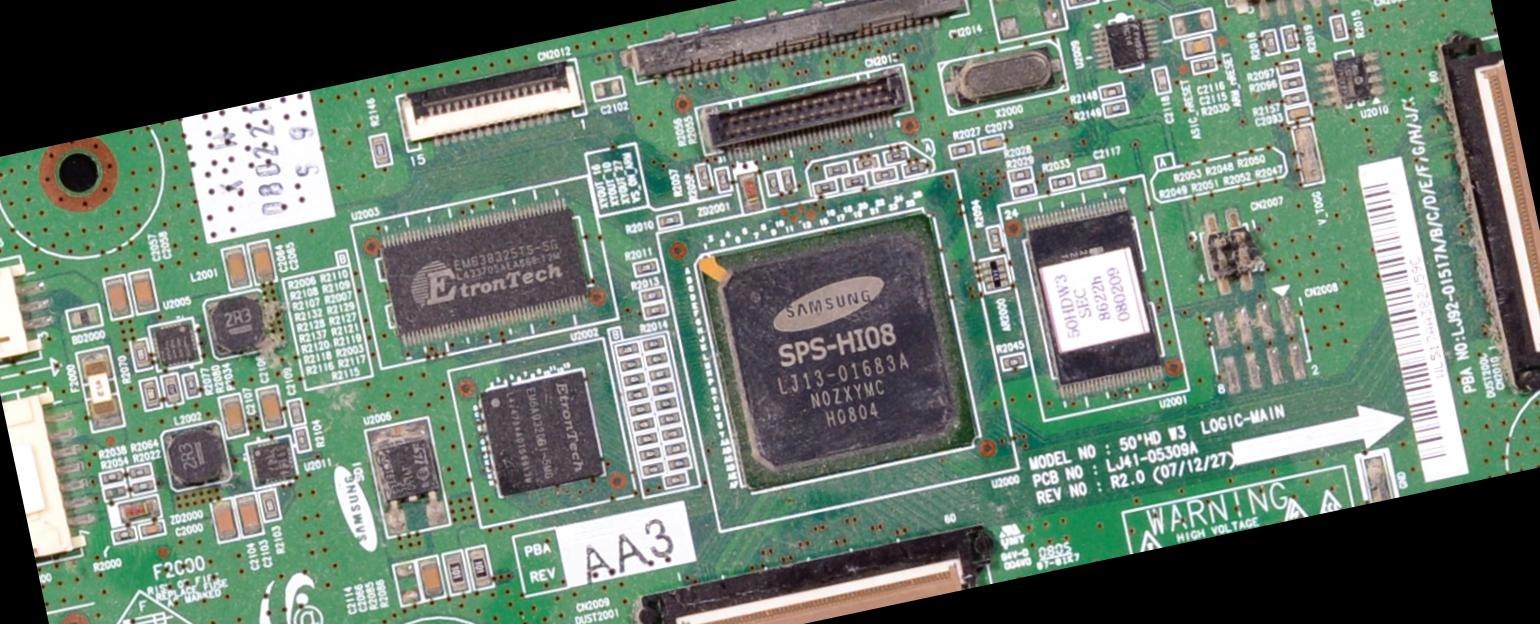Capacitor Jumper: (130, 269, 156, 312), (211, 500, 238, 541), (105, 276, 131, 318), (258, 388, 282, 428), (222, 394, 245, 434), (421, 560, 442, 598), (249, 244, 271, 280), (224, 248, 244, 285), (594, 76, 623, 98), (1181, 36, 1212, 56), (241, 497, 258, 532), (979, 134, 1005, 152), (1152, 70, 1169, 96), (1078, 168, 1102, 186), (290, 399, 303, 425), (140, 522, 163, 536), (1292, 109, 1308, 119)
IC: (696, 209, 980, 492), (382, 196, 591, 342), (1024, 195, 1165, 396), (480, 366, 604, 496), (372, 423, 448, 522), (146, 314, 202, 369), (249, 438, 300, 488), (1104, 17, 1152, 64), (1335, 54, 1376, 104)
Resistor Jumper: (468, 548, 489, 587), (444, 552, 464, 590), (258, 489, 278, 521), (366, 134, 386, 165), (140, 378, 160, 408), (164, 374, 184, 404), (1048, 171, 1072, 192), (1278, 22, 1296, 48), (134, 338, 149, 368), (1259, 28, 1276, 54), (660, 210, 684, 228), (635, 258, 659, 276), (103, 484, 130, 499), (132, 475, 155, 492), (184, 373, 200, 397), (1329, 17, 1345, 38), (876, 168, 900, 182), (646, 302, 670, 316), (112, 528, 136, 542), (715, 170, 730, 192), (990, 226, 1005, 248), (641, 285, 661, 301), (1002, 354, 1023, 369), (950, 142, 974, 155), (1194, 60, 1216, 74), (906, 158, 928, 172), (295, 430, 309, 451), (1099, 84, 1121, 97), (1006, 169, 1028, 182), (698, 167, 712, 187), (622, 356, 642, 370), (766, 171, 778, 194), (1286, 78, 1306, 91), (643, 336, 663, 349), (102, 470, 122, 483), (783, 168, 794, 190), (1108, 102, 1128, 114), (888, 150, 906, 163), (1066, 0, 1098, 7), (1285, 94, 1307, 104), (130, 466, 152, 476), (642, 462, 661, 473), (817, 180, 834, 192), (626, 373, 643, 385), (657, 379, 674, 391), (664, 428, 682, 439), (1280, 63, 1296, 75), (661, 411, 677, 423), (860, 154, 875, 166), (630, 388, 646, 399), (827, 164, 844, 174), (660, 397, 675, 408), (638, 434, 654, 444), (670, 472, 683, 484), (620, 343, 637, 352), (672, 458, 685, 469), (668, 444, 682, 454), (635, 404, 652, 412), (844, 179, 860, 187), (1014, 187, 1030, 194), (644, 446, 658, 454), (649, 356, 664, 363), (654, 370, 667, 378), (637, 418, 650, 426)
